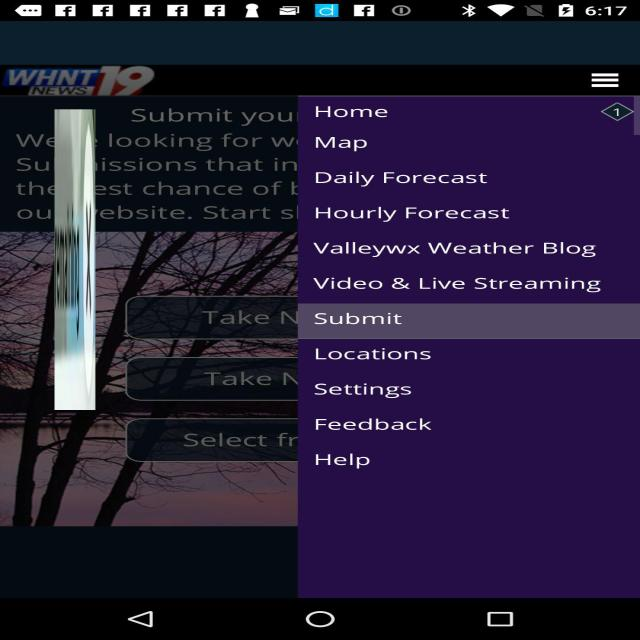misdirection: (54, 109, 96, 410)
